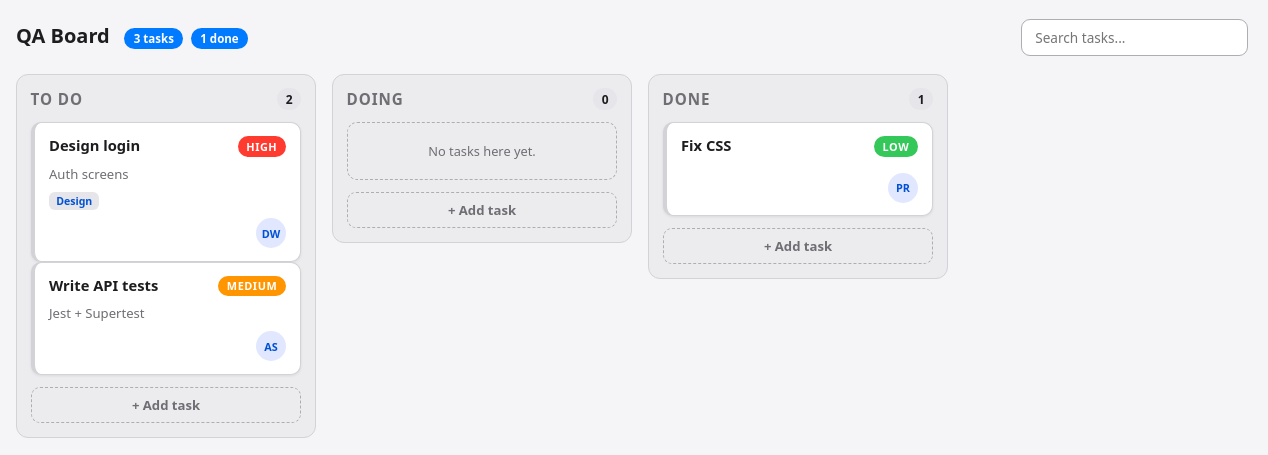
Test: Board component › search box filters visible tasks
Type "wireframe" into the search field with placeholder "Search tasks..." at (1135, 38), box [1021,19,1248,56]
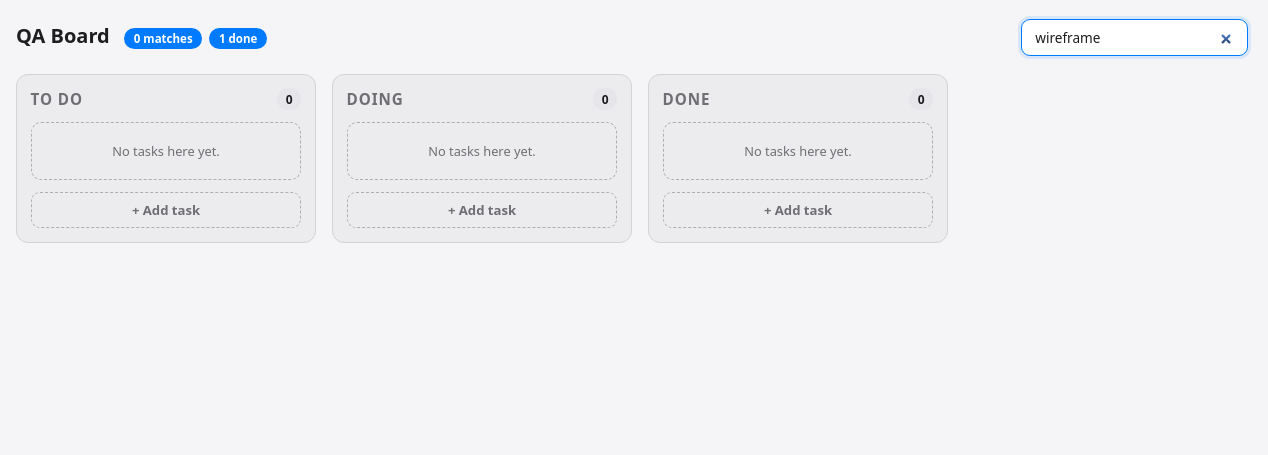
Now the button "Design login" is gone
Now the text "0 matches" is shown, box [124,28,202,49]
Replace the text in the search field with placeholder "Search tasks..." with "API" at (1135, 38), box [1021,19,1248,56]
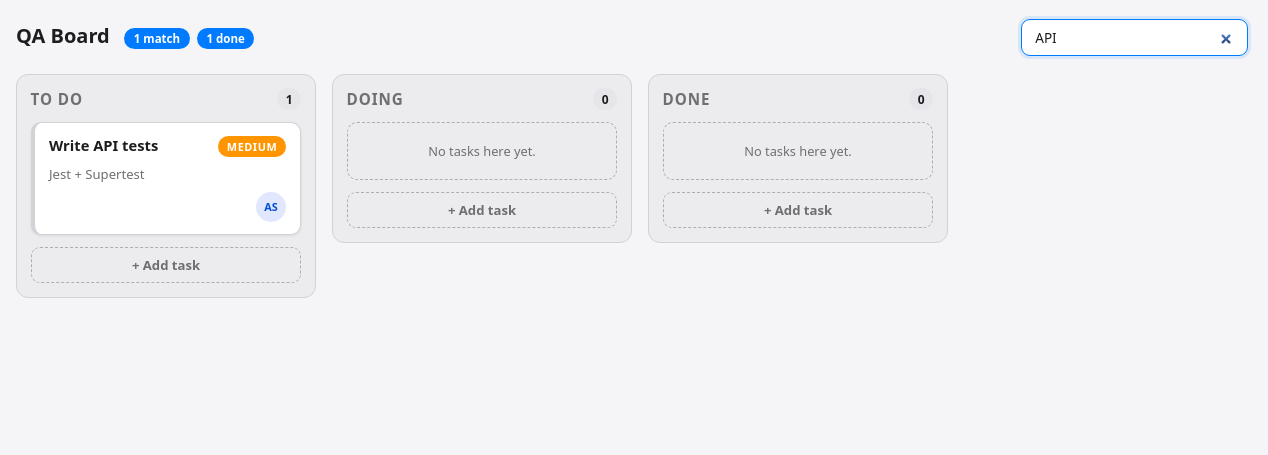
Now the heading "Write API tests" is shown, box [49,136,158,155]
Now the button "Design login" is gone
Now the text "1 match" is shown, box [124,28,190,49]
